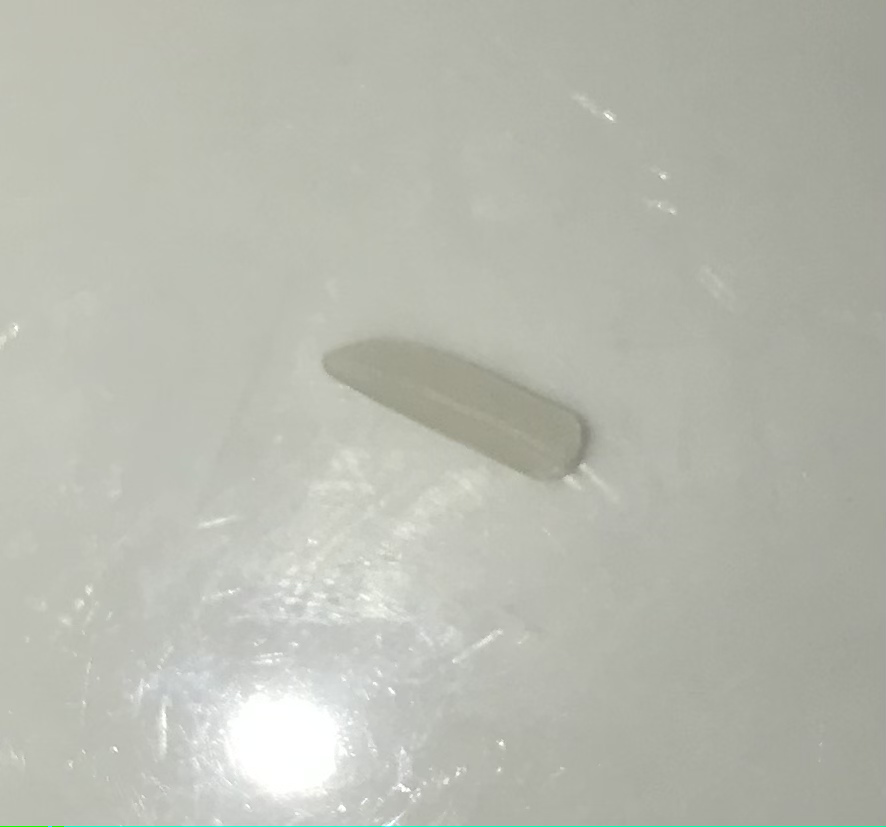Gao Thom Go Cong: (308, 304, 602, 504)
